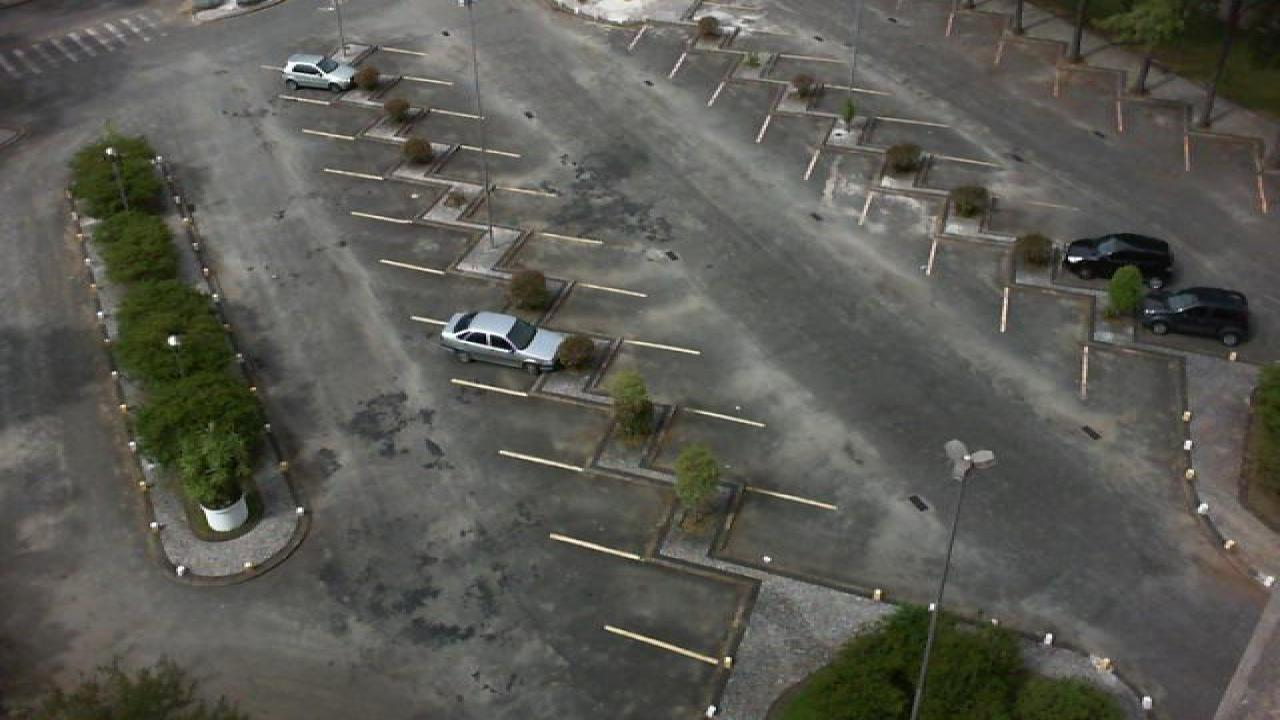Car: (438, 310, 570, 374), (1136, 286, 1254, 348), (1060, 233, 1176, 286), (280, 58, 356, 93)
